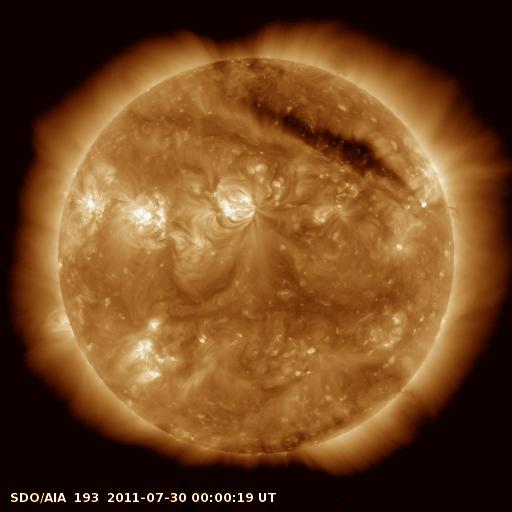coronal_hole: (241, 88, 401, 186)
